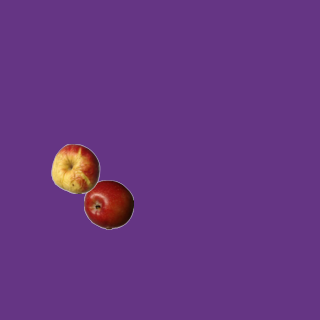Apple Braeburn: (83, 179, 133, 229)
Apple Red Yellow 1: (50, 143, 100, 193)
